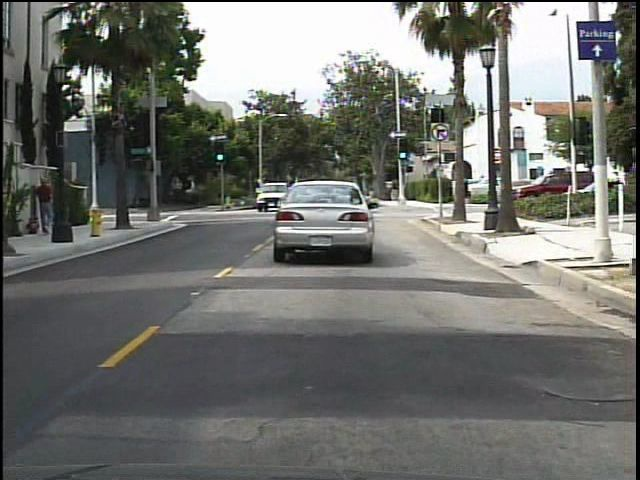person: (32, 176, 60, 243)
